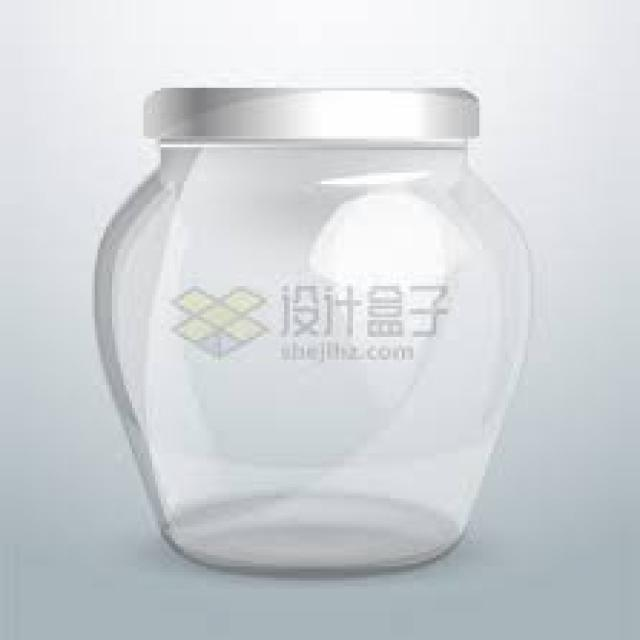glass: (92, 133, 528, 569)
plastic: (138, 85, 476, 142)
